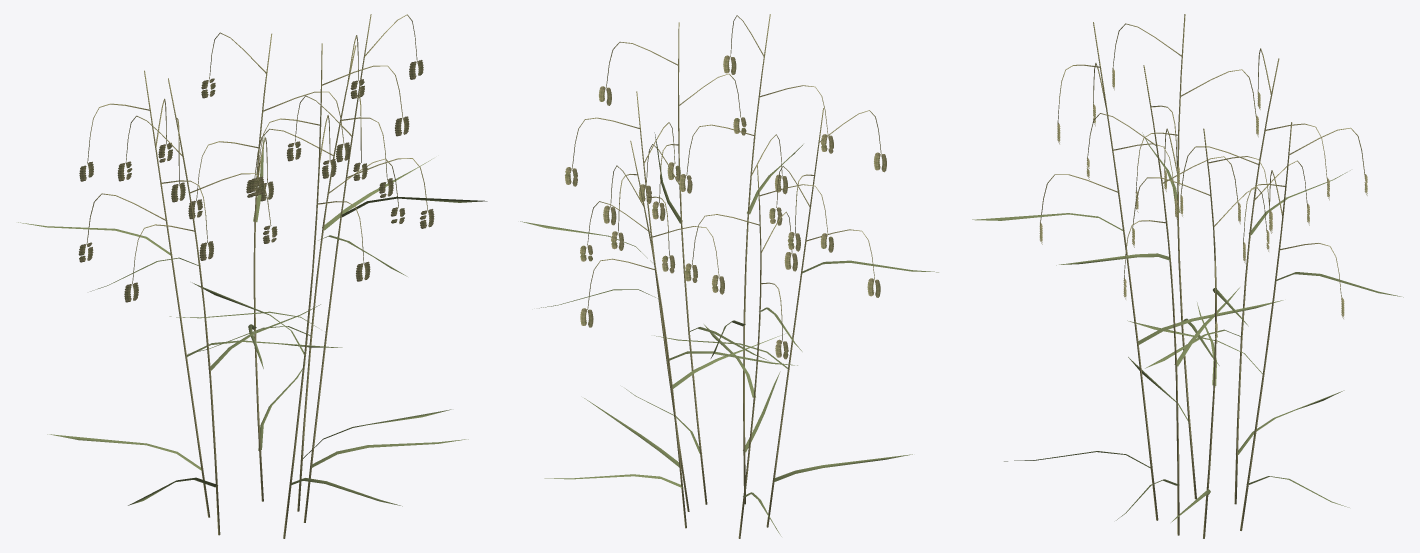
File: Brize_2_Niveau0.fbx
The picture shows the model from 3 angles, left to right: view 1: azimuth 30°, elevation 25°; view 2: azimuth 150°, elevation 25°; view 3: azimuth 270°, elevation 25°; orthographic projection. The views are drawn at different scales.
Visible parts, largest first — view 1: Brize_2_Niveau0; view 2: Brize_2_Niveau0; view 3: Brize_2_Niveau0.
Boxes of the visible parts, bbox=[...] form: Brize_2_Niveau0: bbox=[18, 14, 487, 538]; Brize_2_Niveau0: bbox=[520, 14, 938, 538]; Brize_2_Niveau0: bbox=[972, 14, 1403, 538].
Size of the model in its own units: 37.36 by 44.85 by 35.41.
